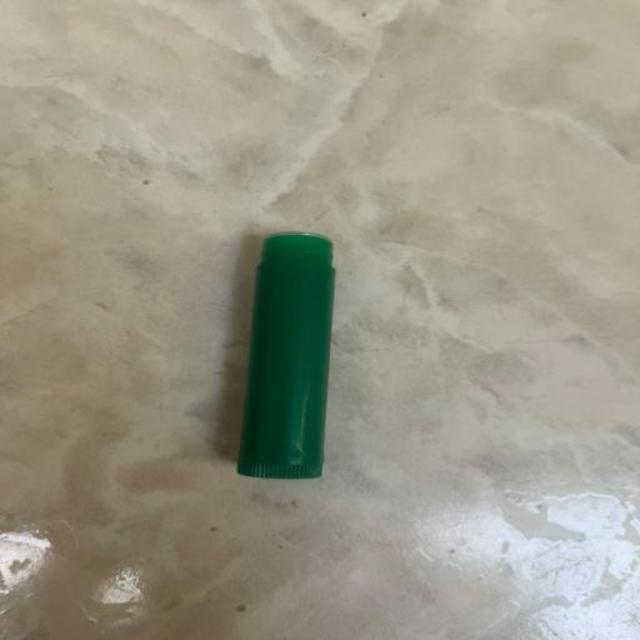HDPE: (133, 185, 429, 550)
